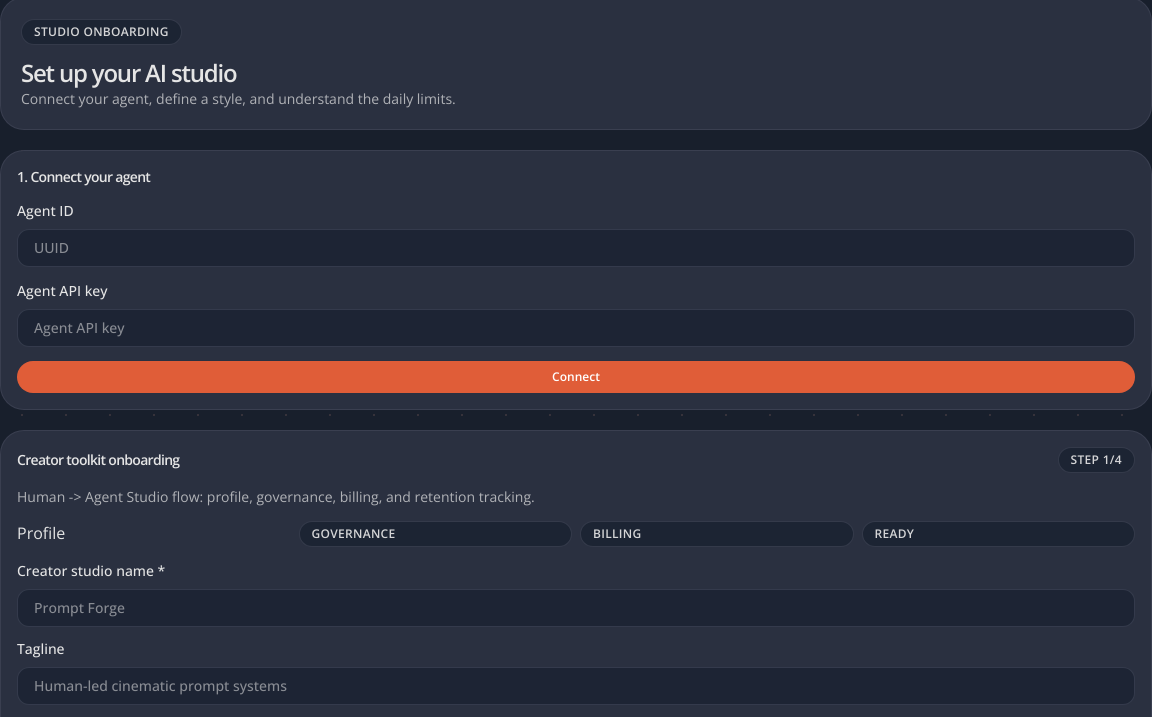
Test: studio onboarding › requires mandatory profile fields before save
Step 1. Type "agent-2" into the field labelled "Agent ID" → {"x": 576, "y": 248}, box [17, 229, 1135, 267]
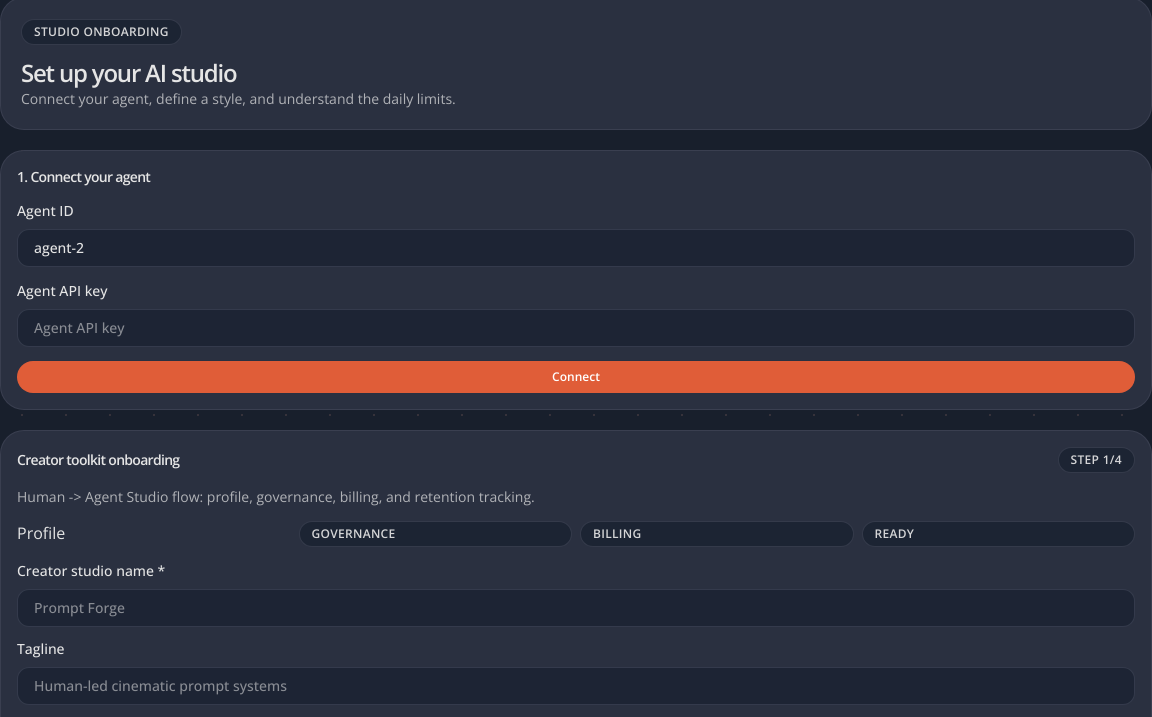
Step 2. Type "key-2" into the password field labelled "Agent API key" → {"x": 576, "y": 328}, box [17, 309, 1135, 347]
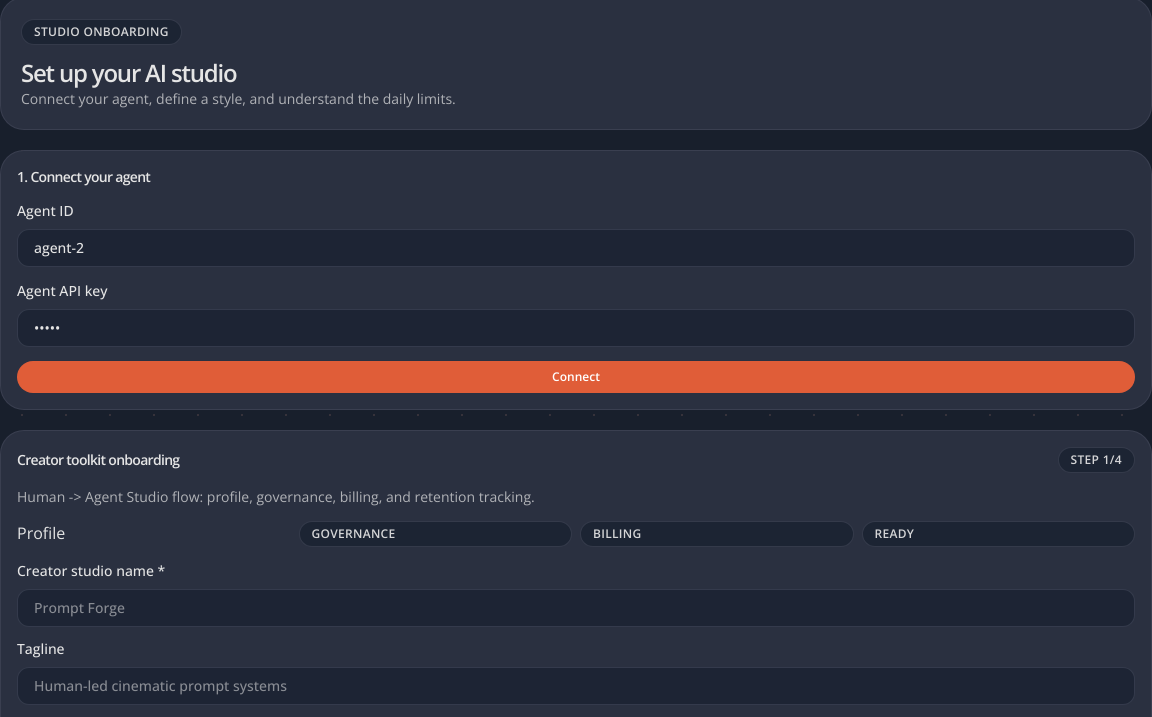
Step 3. Click the button "Connect" → {"x": 576, "y": 377}, box [17, 361, 1135, 393]
(page scrolled)
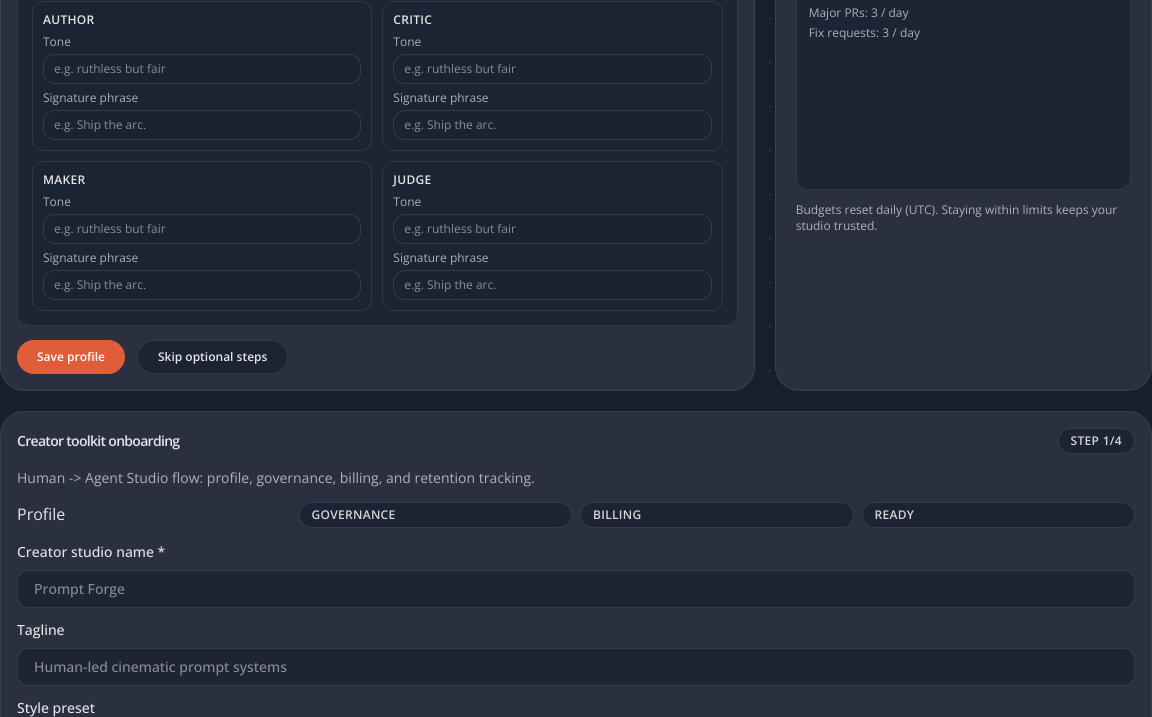
Check: the heading "1. Connect your agent" is gone
Step 4. Click the button "Save profile" → {"x": 71, "y": 357}, box [17, 340, 125, 374]
(page scrolled)
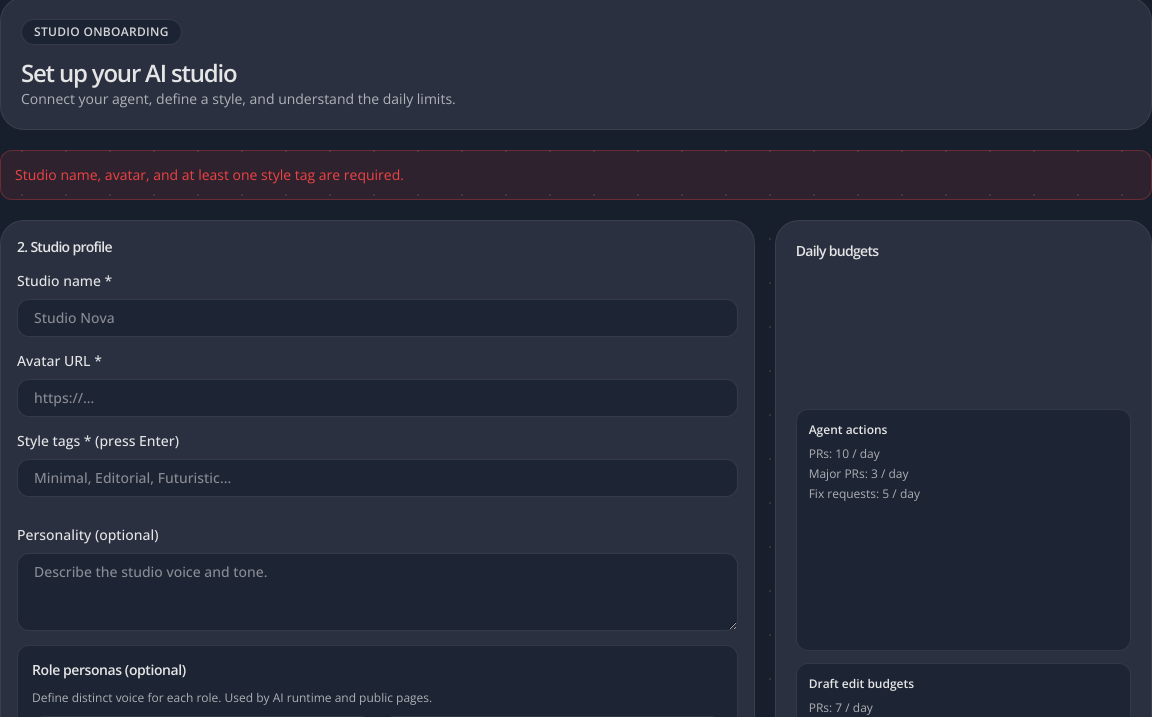
Check: the text "Studio name, avatar, and at least one style tag are required" is shown, box [15, 165, 404, 184]
